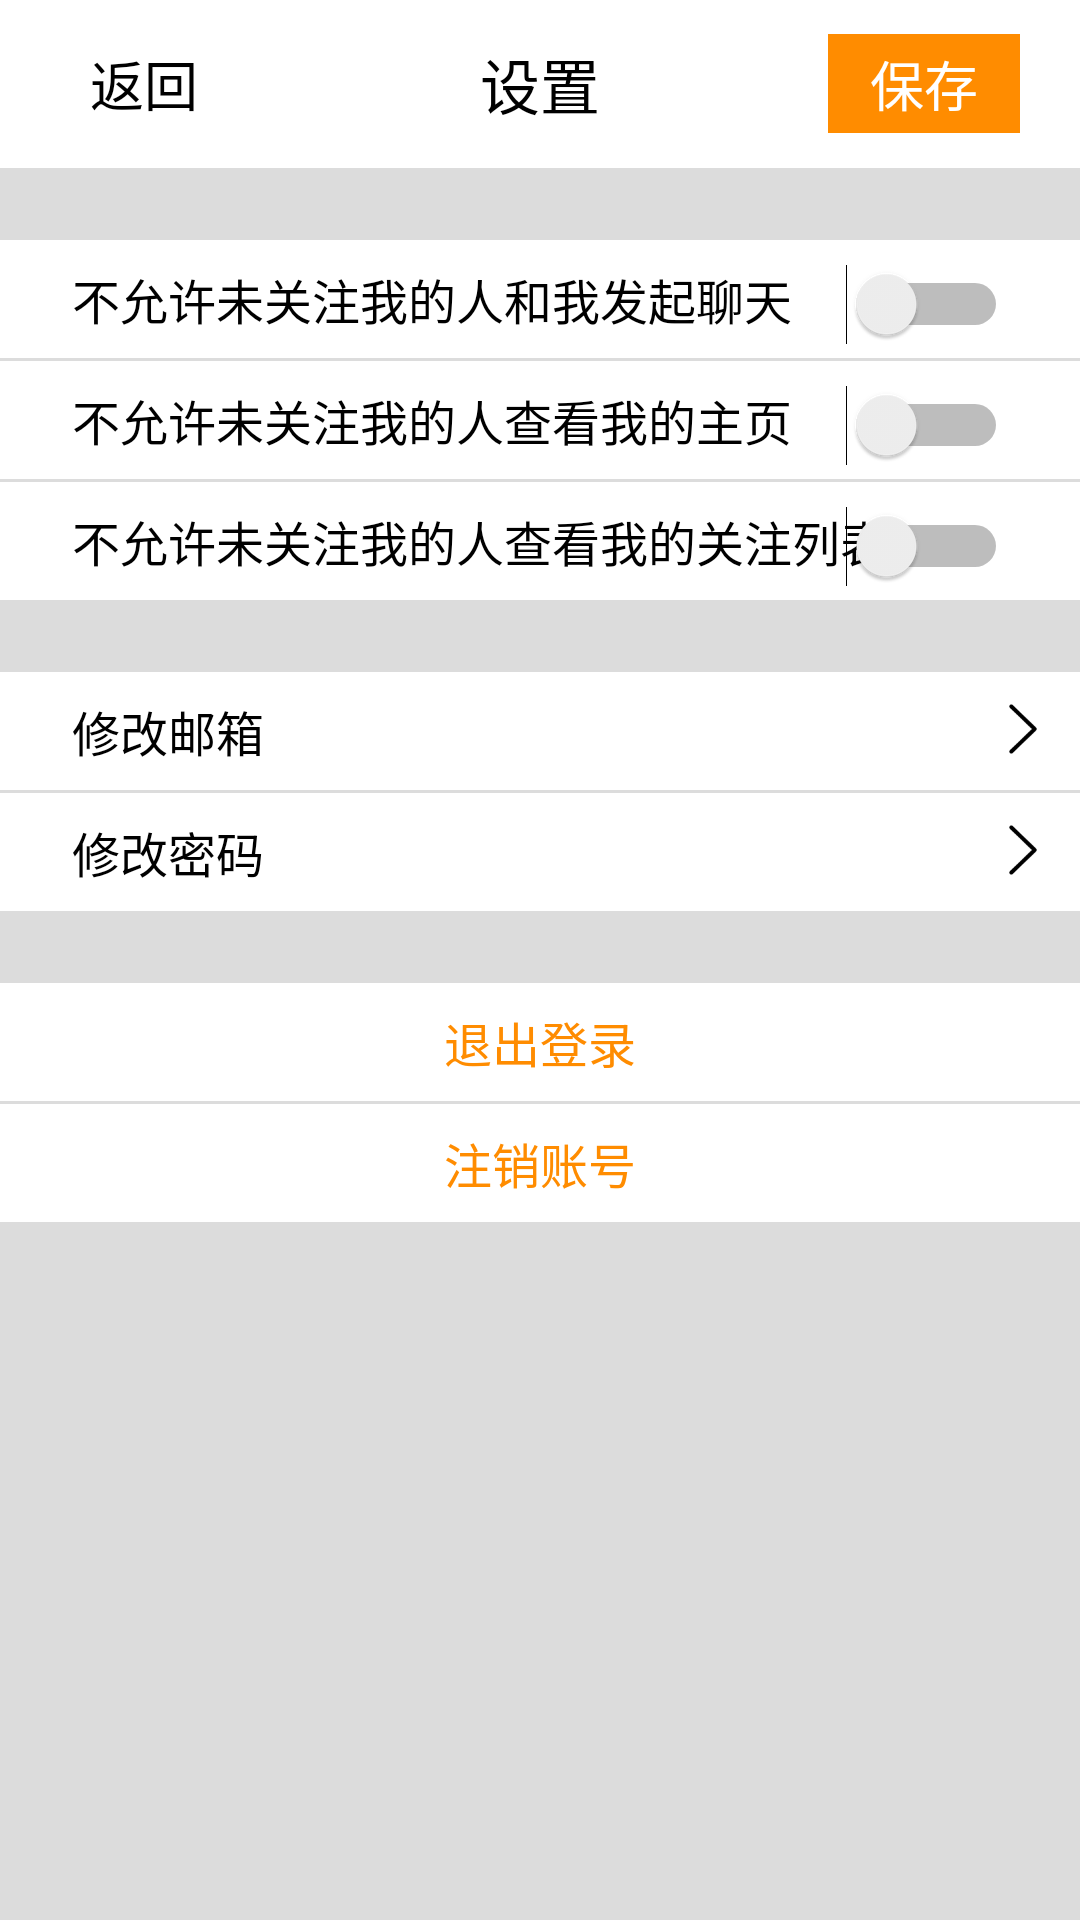

Icons on this 1080 x 1920 Android screen, each with its box as rect(x1, y1, x2, y2):
rightarrow: rect(1009, 704, 1037, 754), rect(1009, 825, 1037, 875)
